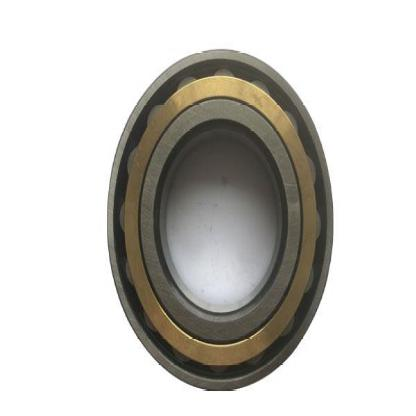FOD: (101, 46, 335, 399)
